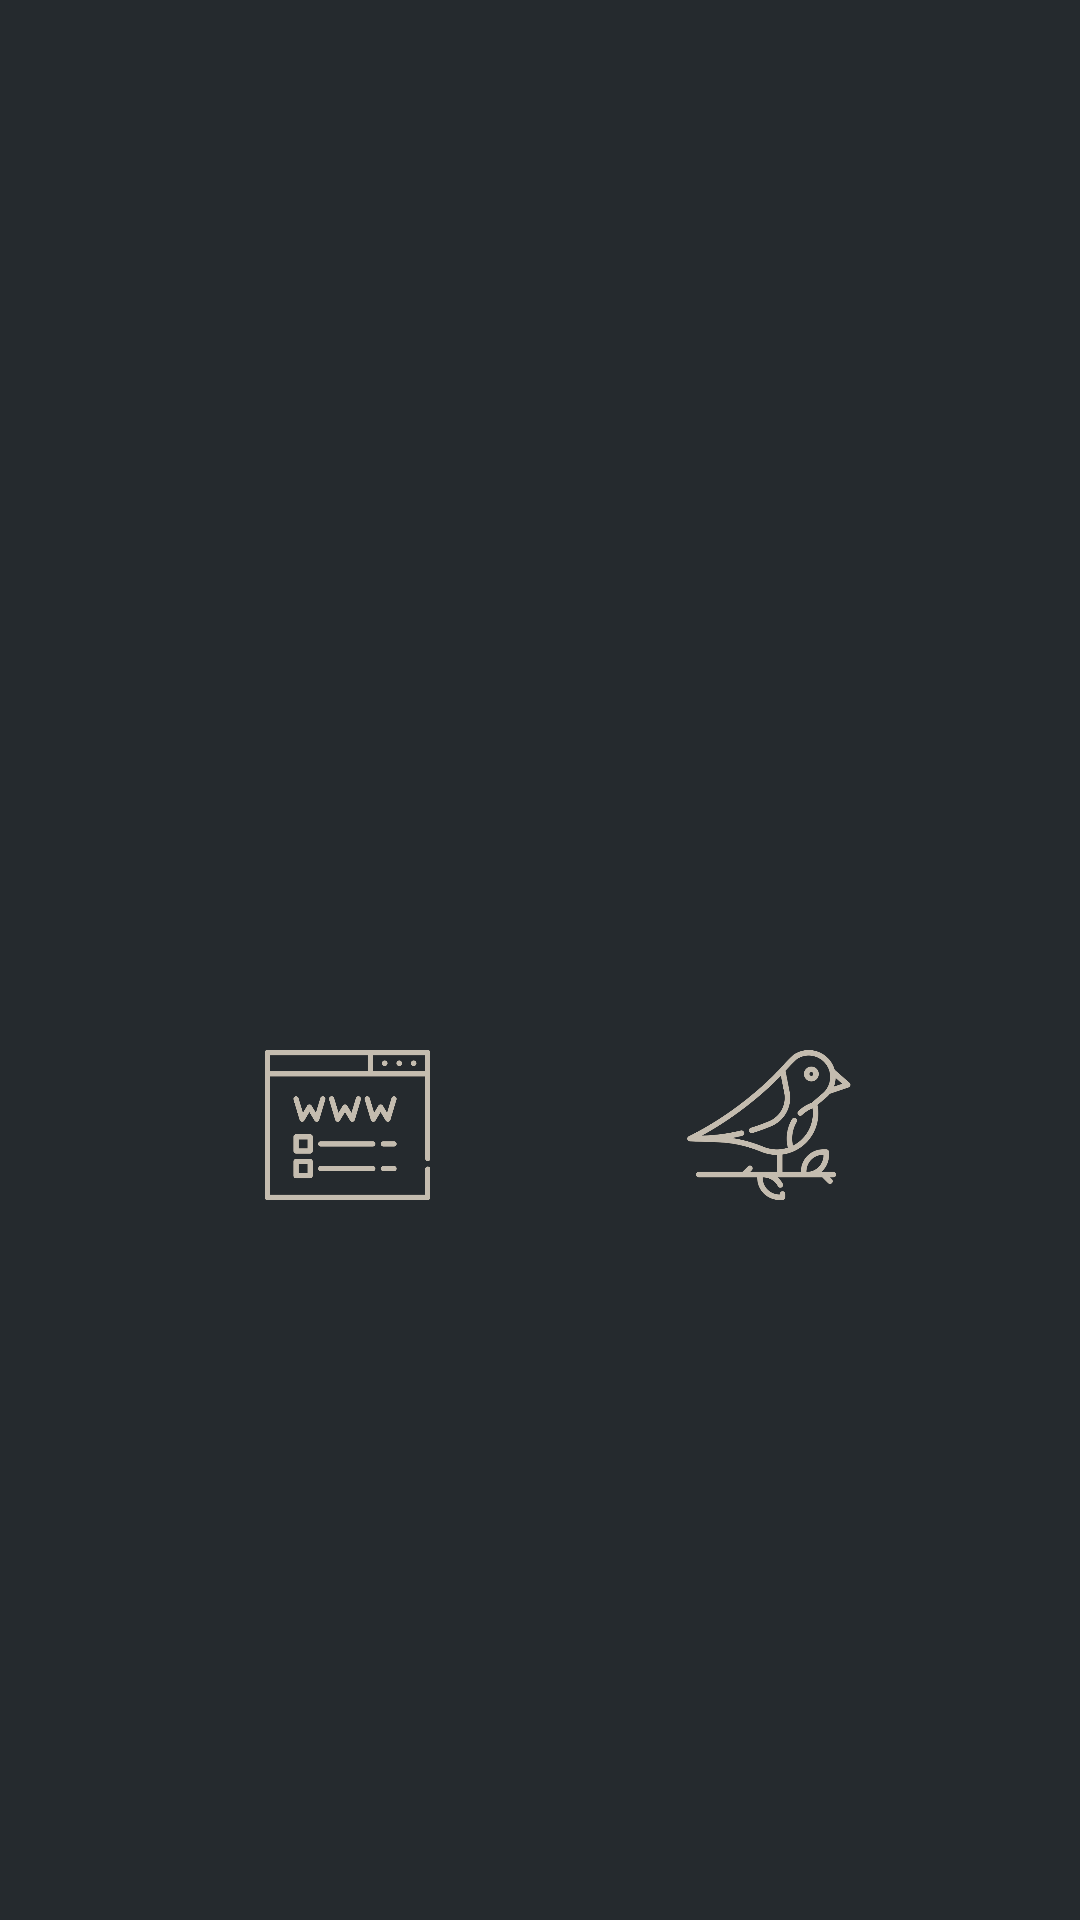

Icon bounding boxes for this 1080w x 1920h phone screenshot, format (x1, y1, x2, y2):
bird: (687, 1050, 851, 1200)
web: (265, 1050, 430, 1200)
